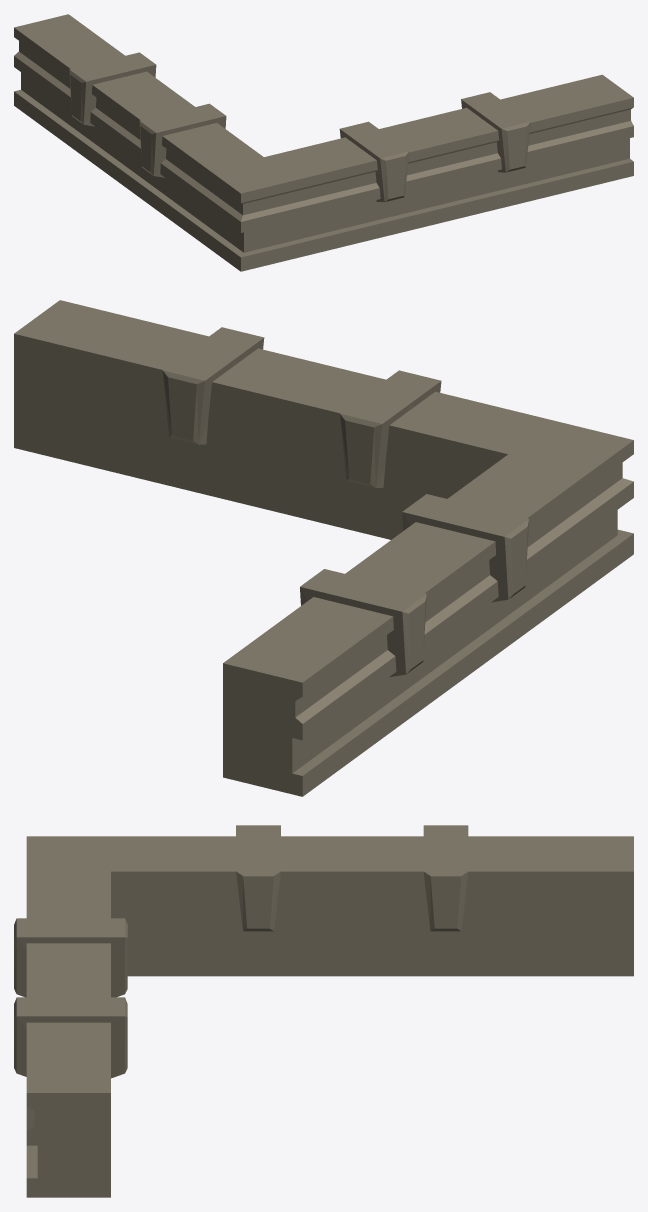
The model's file is TempleFrameC_D.fbx.
3 renders of one model, top to bottom at view 1: azimuth 30°, elevation 25°; view 2: azimuth 150°, elevation 25°; view 3: azimuth 270°, elevation 25°, orthographic. The views are drawn at different scales.
Visible parts, largest first — view 1: TempleFrameC_D01, TempleFrameC_D02; view 2: TempleFrameC_D01, TempleFrameC_D02; view 3: TempleFrameC_D01, TempleFrameC_D02.
Part boxes in pixels (<box>): TempleFrameC_D01: <box>14,14,633,271</box>; TempleFrameC_D02: <box>69,52,530,202</box>; TempleFrameC_D01: <box>14,300,633,796</box>; TempleFrameC_D02: <box>162,327,528,677</box>; TempleFrameC_D01: <box>26,836,633,1197</box>; TempleFrameC_D02: <box>14,825,468,1078</box>.
Bounding box in the file's own units: 570 × 113 × 570.
